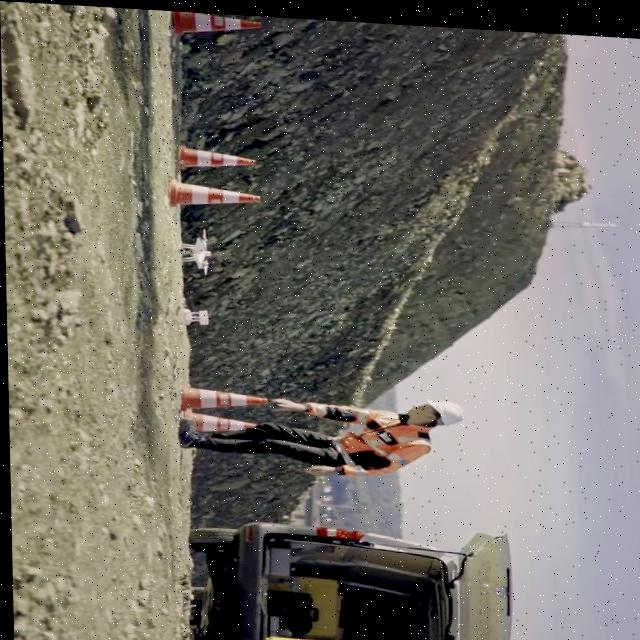drone: (179, 225, 212, 271)
